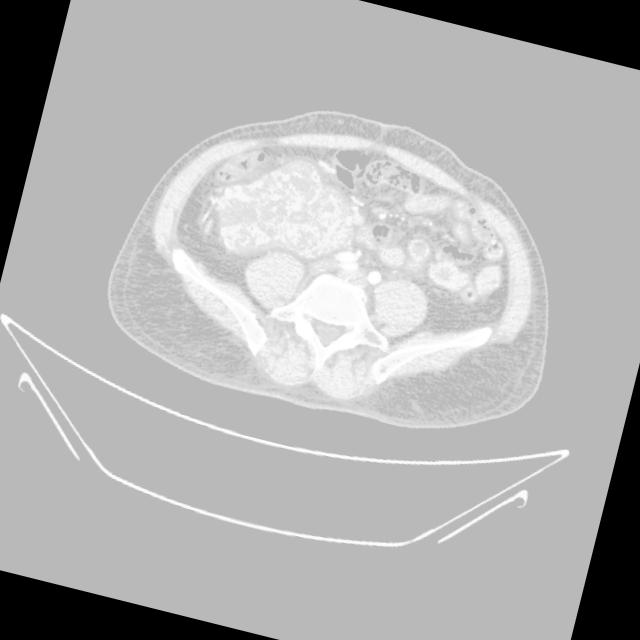TUMOR: (193, 94, 545, 339)
